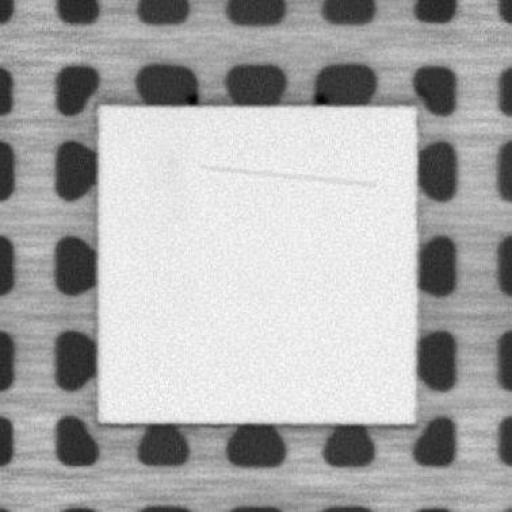DIE_CRACK: (199, 160, 375, 189)
